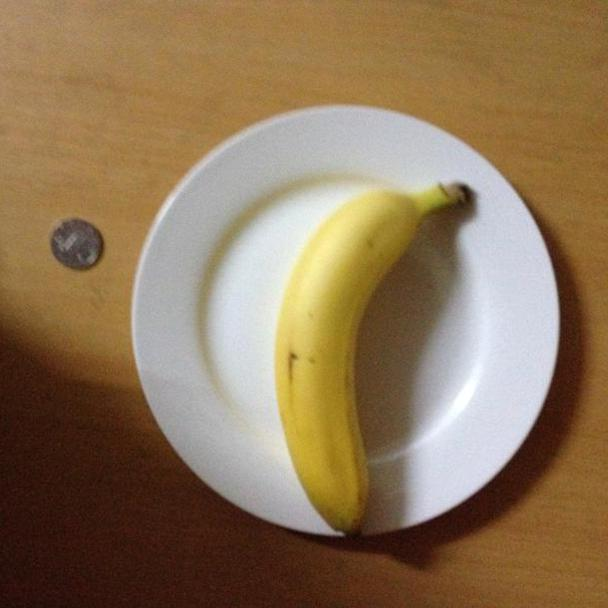banana: (273, 175, 442, 533)
